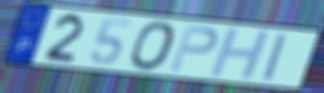2: (42, 13, 86, 64)
5: (88, 17, 134, 66)
H: (206, 28, 273, 81)
I: (261, 31, 290, 83)
O: (128, 20, 178, 72)
P: (167, 24, 220, 74)
